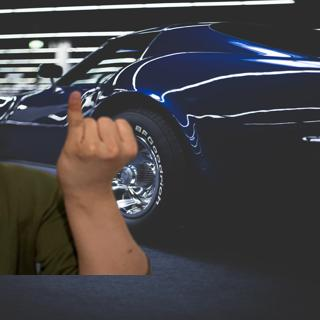FINE: (53, 87, 146, 204)
